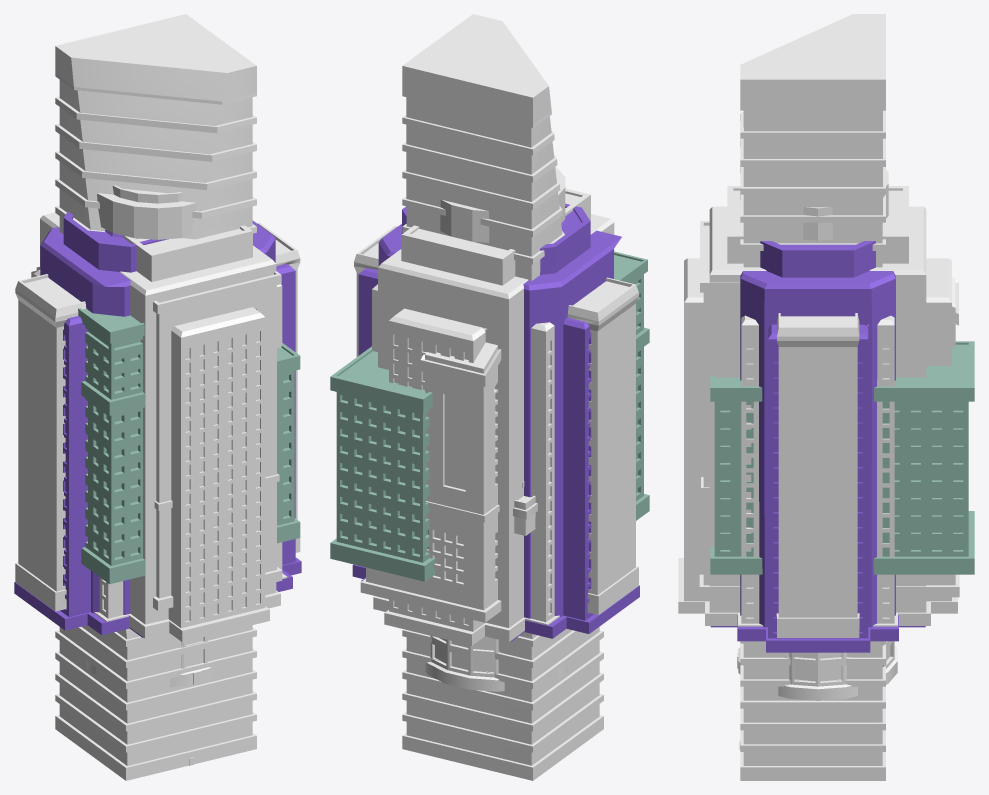
File: buildings-and-skyscrapers.fbx
The picture shows the model from 3 angles, left to right: view 1: azimuth 30°, elevation 25°; view 2: azimuth 150°, elevation 25°; view 3: azimuth 270°, elevation 25°; orthographic projection. The views are drawn at different scales.
Parts seen in each view (by area): view 1: 117, 3, 71, 30.001, 128, 169, 101; view 2: 117, 3, 30.001, 71, 169, 128, 101, 38; view 3: 117, 3, 128, 30.001, 71, 169, 101.
Boxes of the visible parts, left/top/right/bottom form: 117: left=55, top=14, right=256, bottom=780; 3: left=33, top=212, right=287, bottom=642; 71: left=78, top=308, right=300, bottom=584; 30.001: left=14, top=211, right=301, bottom=637; 128: left=15, top=222, right=300, bottom=611; 169: left=31, top=266, right=282, bottom=610; 101: left=86, top=185, right=217, bottom=687; 117: left=402, top=14, right=603, bottom=780; 3: left=372, top=188, right=614, bottom=645; 30.001: left=352, top=203, right=639, bottom=641; 71: left=330, top=251, right=649, bottom=581; 169: left=360, top=342, right=501, bottom=622; 128: left=354, top=226, right=638, bottom=614; 101: left=425, top=167, right=567, bottom=691; 38: left=513, top=495, right=537, bottom=535; 117: left=739, top=14, right=885, bottom=780; 3: left=678, top=186, right=957, bottom=626; 128: left=776, top=313, right=859, bottom=637; 30.001: left=710, top=241, right=925, bottom=652; 71: left=710, top=341, right=974, bottom=574; 169: left=699, top=221, right=959, bottom=597; 101: left=737, top=170, right=897, bottom=700.
Bounding box in the file's own units: 1732 × 4616 × 1769.
